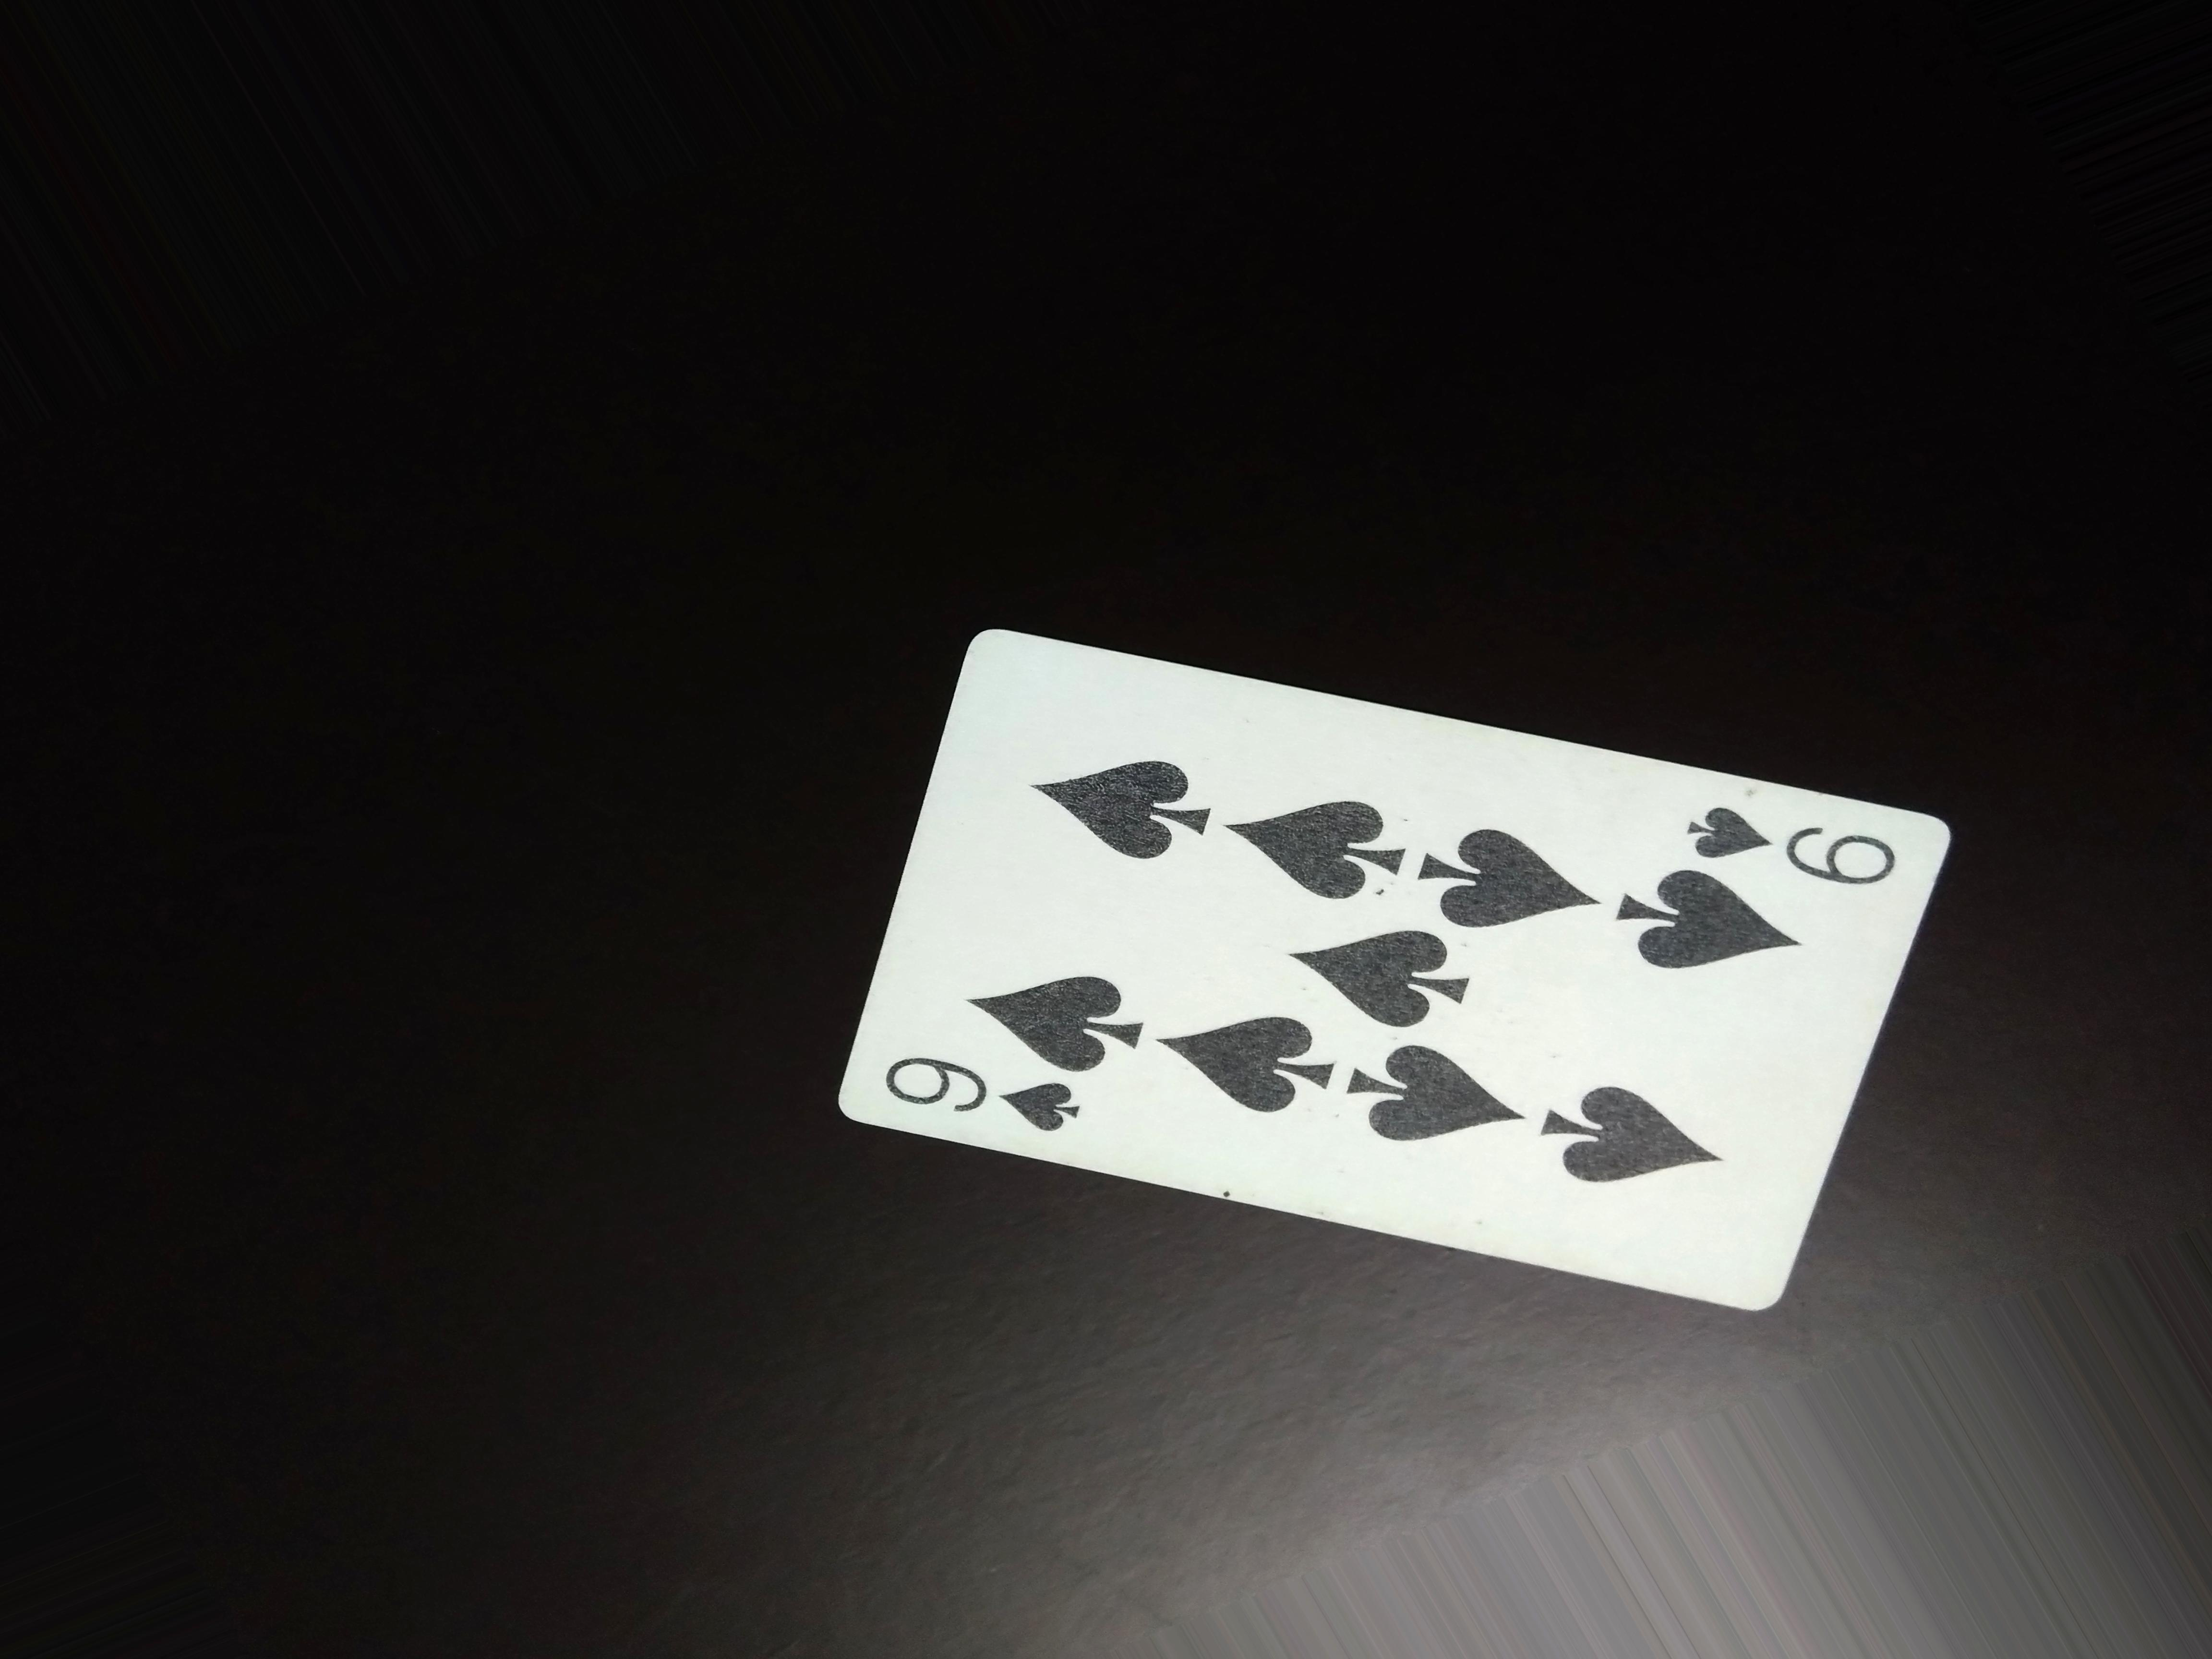9S: (874, 1039, 1104, 1159)
